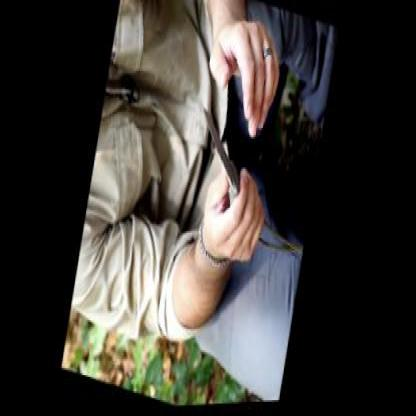knife: (180, 101, 274, 268)
